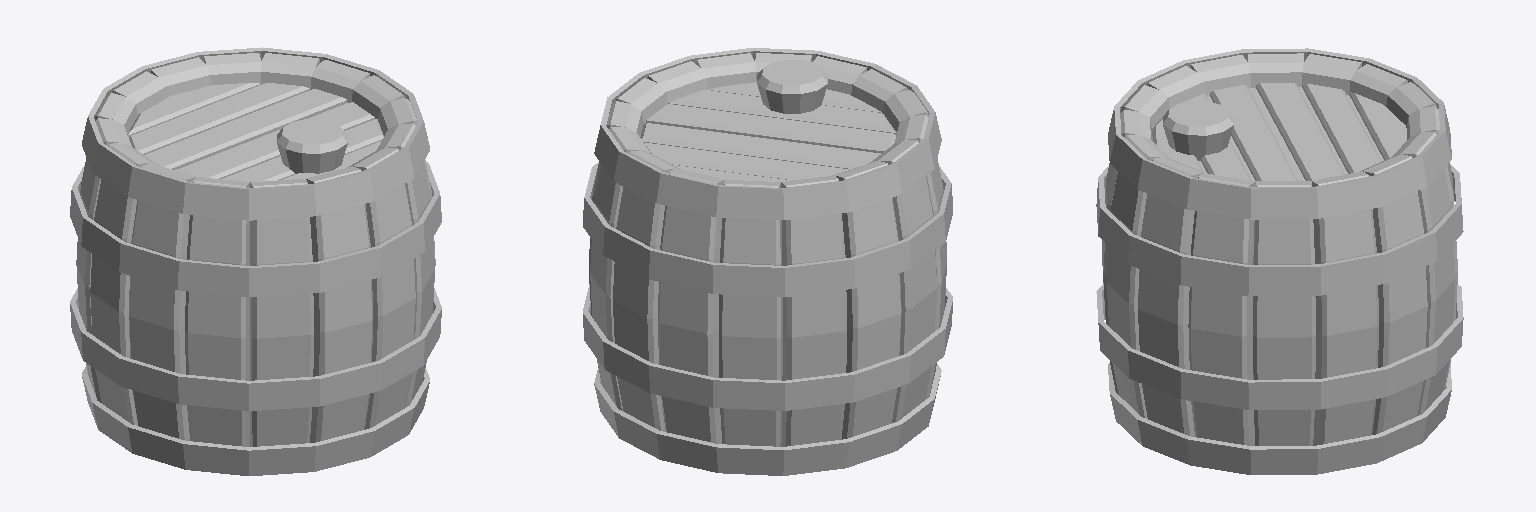
The model's file is Water.obj.
The picture shows the model from 3 angles: view 1: azimuth 30°, elevation 25°; view 2: azimuth 150°, elevation 25°; view 3: azimuth 270°, elevation 25°; orthographic projection.
Parts seen in each view (by area): view 1: Water; view 2: Water; view 3: Water.
Part boxes in pixels (left/top/right/bottom): Water: left=70, top=47, right=441, bottom=475; Water: left=583, top=48, right=952, bottom=475; Water: left=1096, top=48, right=1463, bottom=474.
Size of the model in its own units: 1.6 by 1.44 by 1.6.